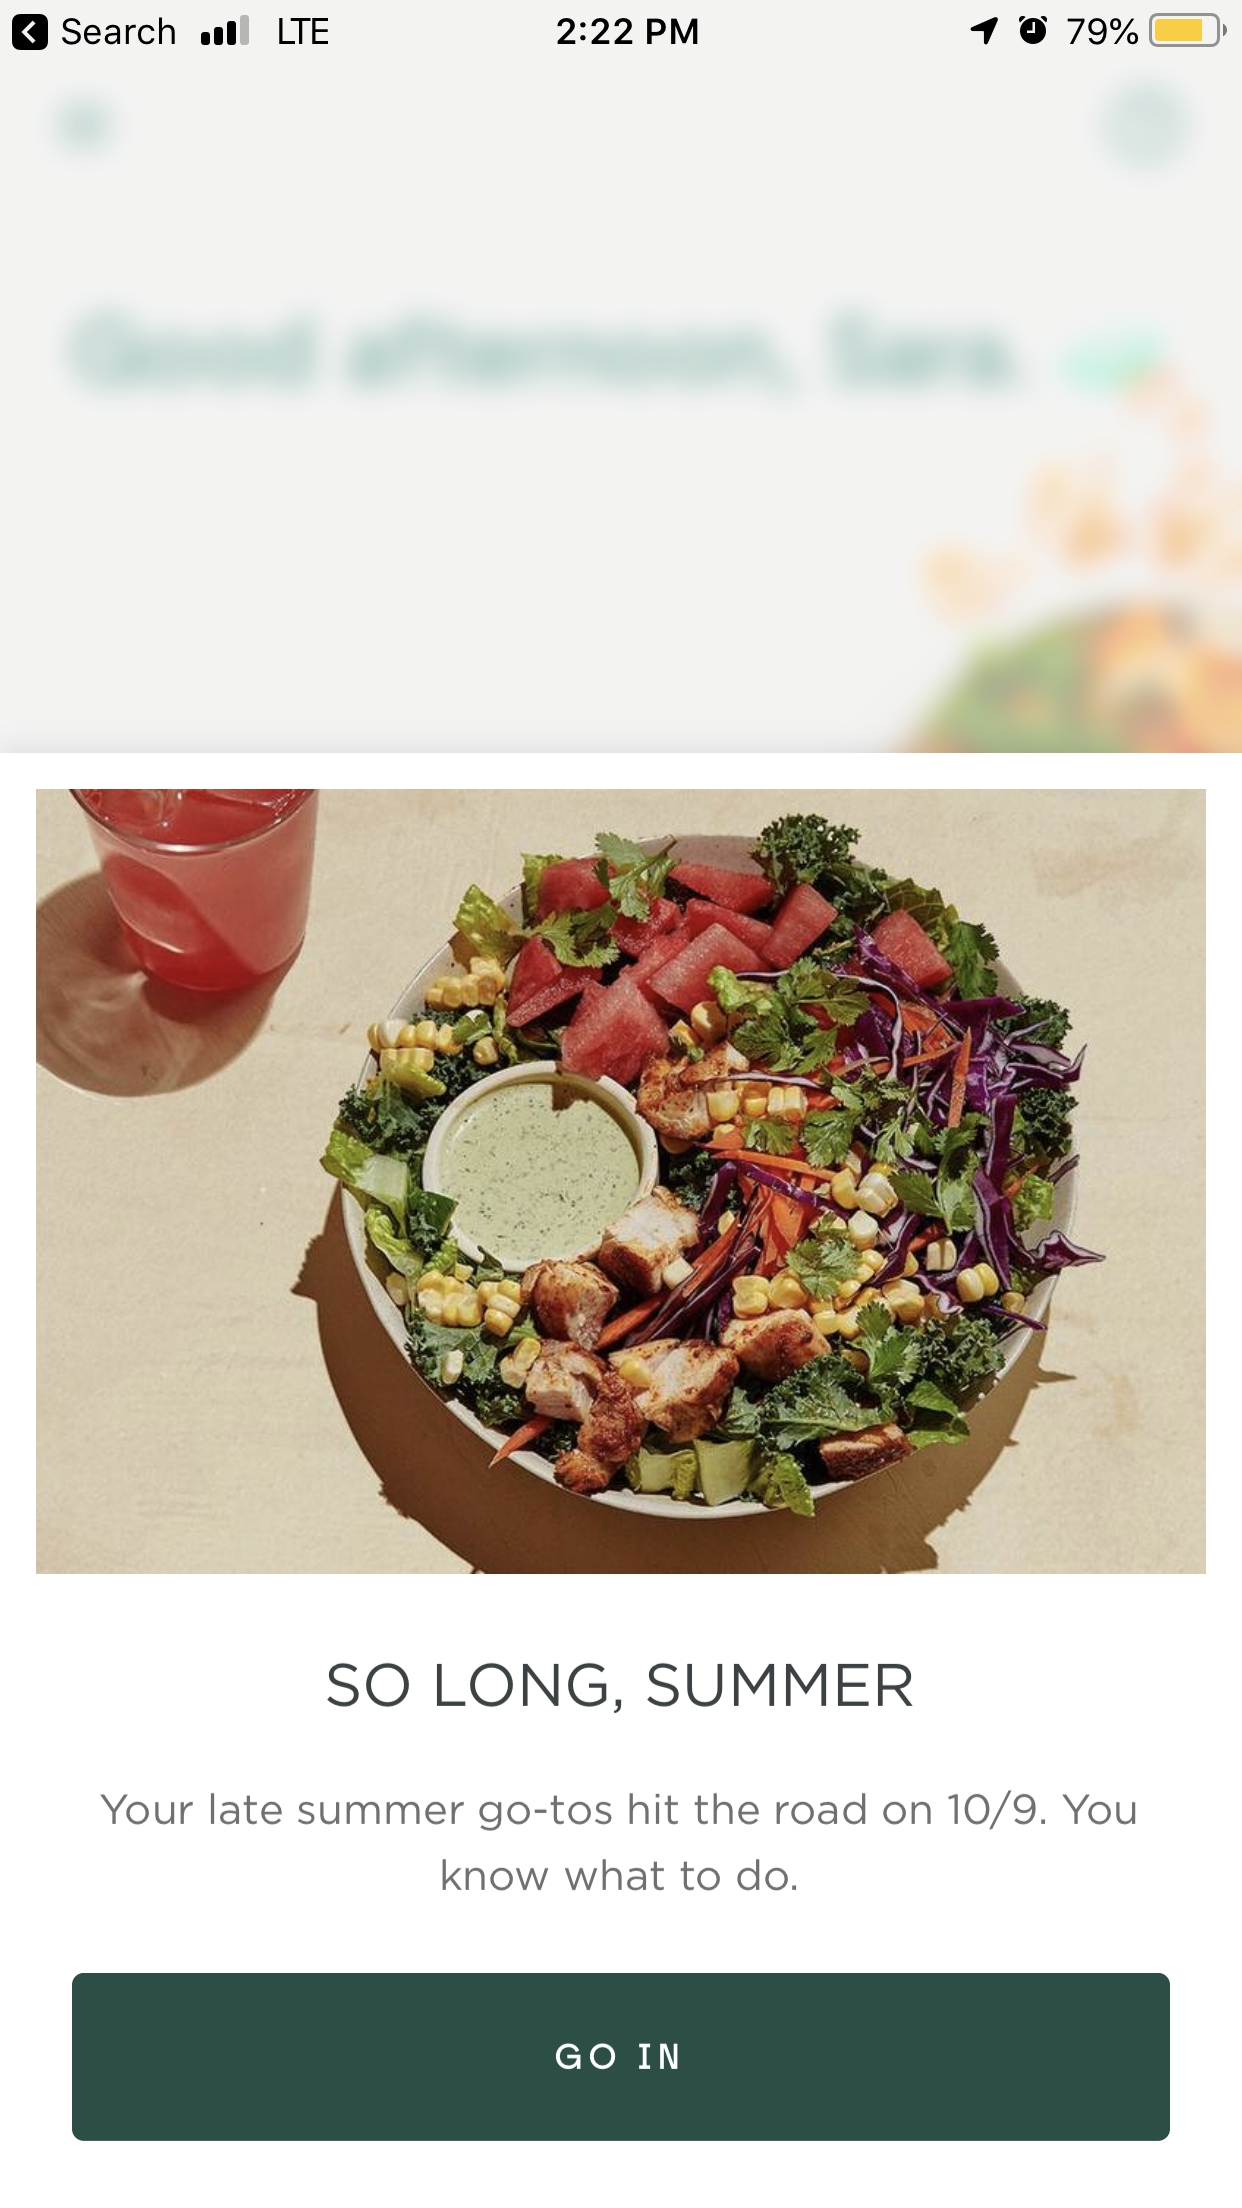Image: (36, 789, 1206, 1576)
Modal: (2, 754, 1242, 2208)
Text: (102, 1789, 1137, 1891), (328, 1662, 914, 1714)
TextButton: (73, 1973, 1171, 2141)
UpperTaskBar: (2, 2, 1242, 52)
